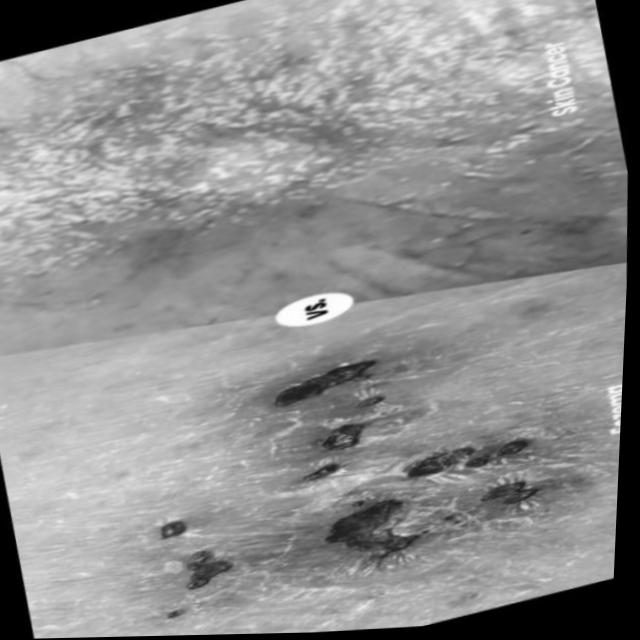Eczema: (53, 0, 541, 242), (169, 354, 528, 612)
